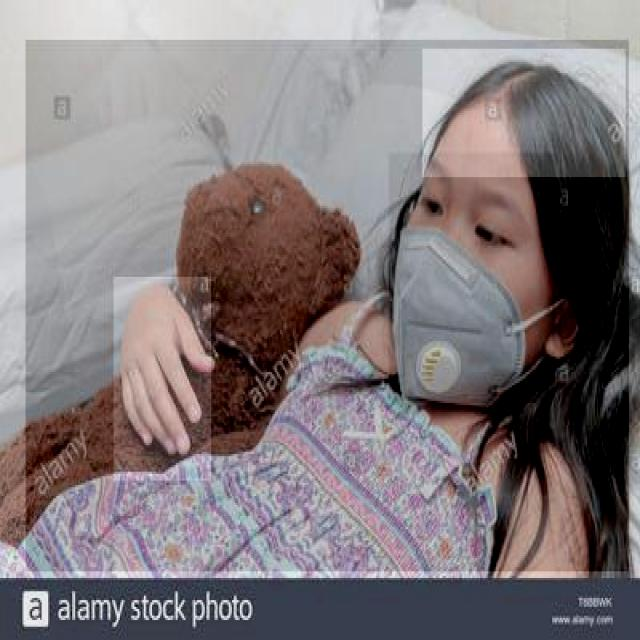face_mask: (389, 153, 555, 403)
hand_noglove: (114, 277, 212, 483)
head_nohelmet: (422, 49, 628, 179)
person: (25, 40, 630, 573)
